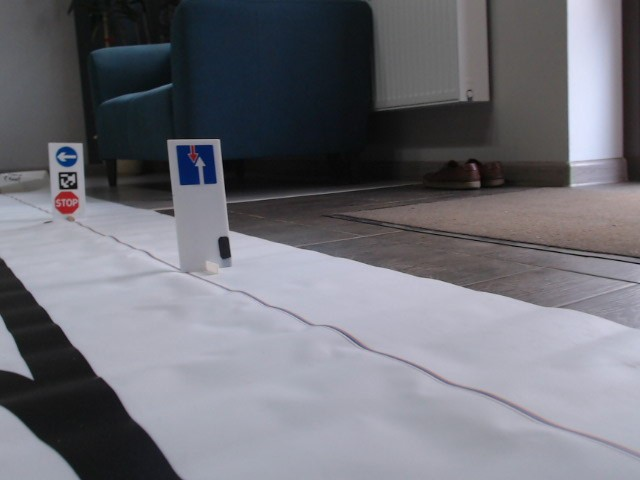Stop: (54, 191, 80, 213)
priority_movement: (175, 143, 218, 186)
